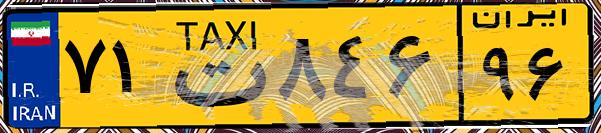1: (110, 28, 158, 98)
4: (330, 28, 385, 110)
6: (385, 28, 445, 110), (525, 38, 570, 115)
7: (57, 26, 110, 100)
8: (270, 28, 330, 110)
9: (475, 38, 525, 113)
ت: (158, 12, 270, 120)
